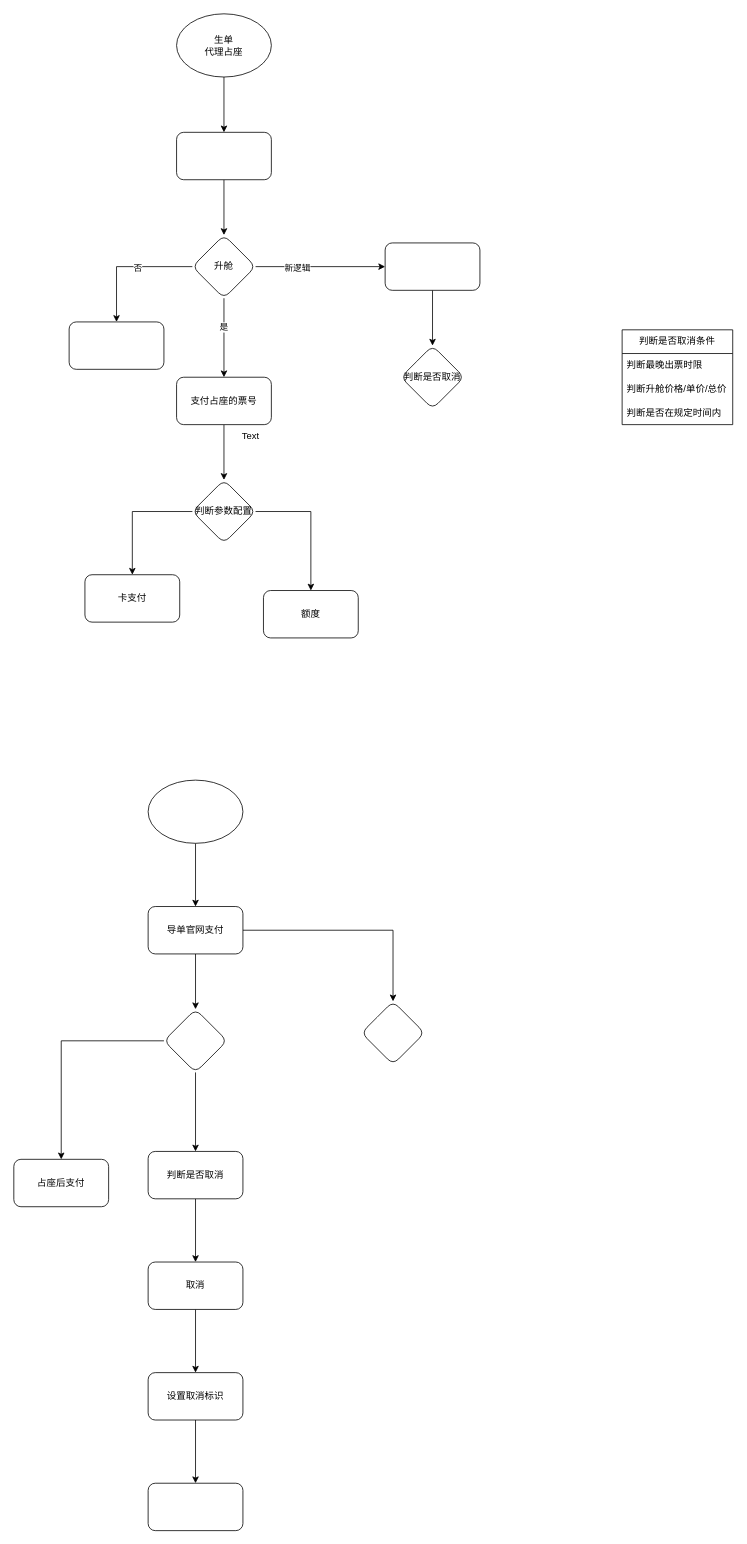
This 747x1544 diagram has some shape labels left out. Each missing label, with the centre of its shape:
"判断升舱" goes at point (195, 1040).
"判断有标识，无需判断是否升舱" goes at point (393, 1033).
"取消票号/账号/密码 传过去" goes at point (195, 1506).
"官网直接支付/卡" goes at point (116, 345).
"导单 官网支付/卡" goes at point (223, 156).
"执行取消占座记录 发起官网支付" goes at point (432, 266).
"自动支付" goes at point (195, 811).
